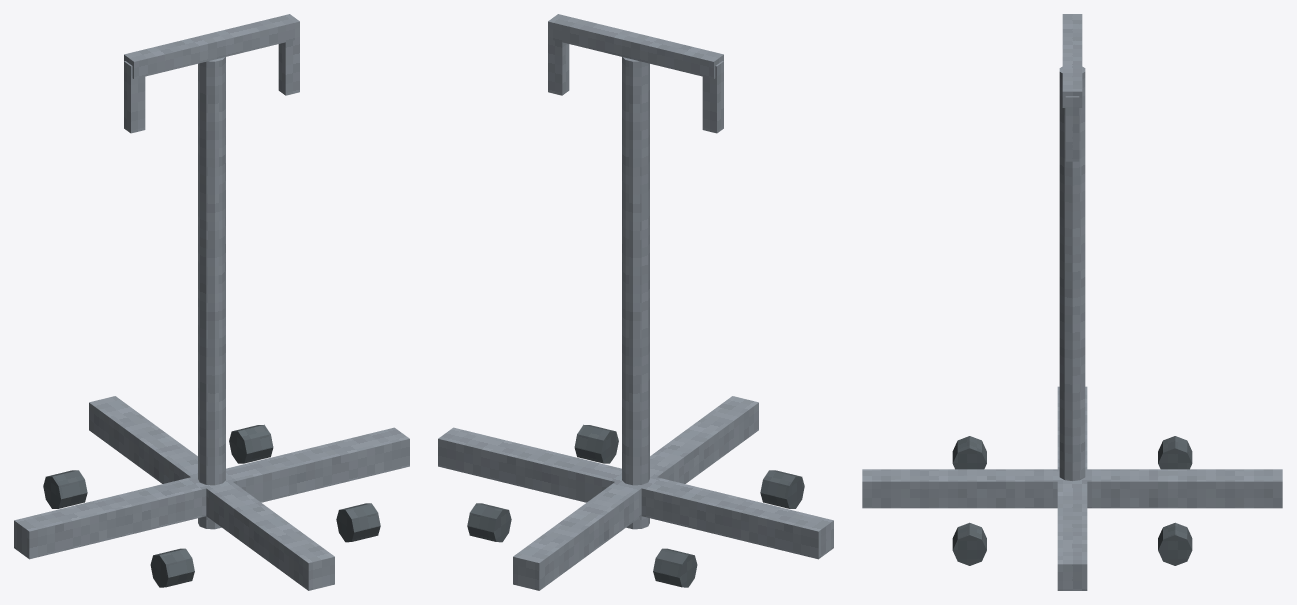
Rendered from level_blockout_hospital_mobile_iv_stand.glb.
3 views of the same model, side by side, from view 1: azimuth 30°, elevation 25°; view 2: azimuth 150°, elevation 25°; view 3: azimuth 270°, elevation 25° (orthographic). The views are drawn at different scales.
Parts seen in each view (by area): view 1: level_blockout_hospital_mobile_iv_stand; view 2: level_blockout_hospital_mobile_iv_stand; view 3: level_blockout_hospital_mobile_iv_stand.
Boxes of the visible parts, x1,y1,x2,y2 form: level_blockout_hospital_mobile_iv_stand: [14, 14, 409, 590]; level_blockout_hospital_mobile_iv_stand: [438, 14, 833, 590]; level_blockout_hospital_mobile_iv_stand: [862, 14, 1282, 590].
Size of the model in its own units: 1.72 by 2.1 by 1.72.
2 materials, 2 textured.
